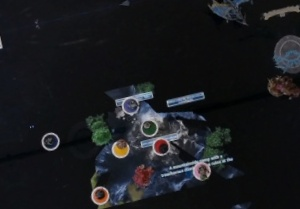green: (136, 115, 160, 139)
orange: (87, 183, 111, 207)
pink: (187, 159, 214, 184)
red: (150, 135, 172, 157)
violet: (116, 92, 143, 118), (38, 128, 61, 152)
yellow: (108, 136, 132, 160)
